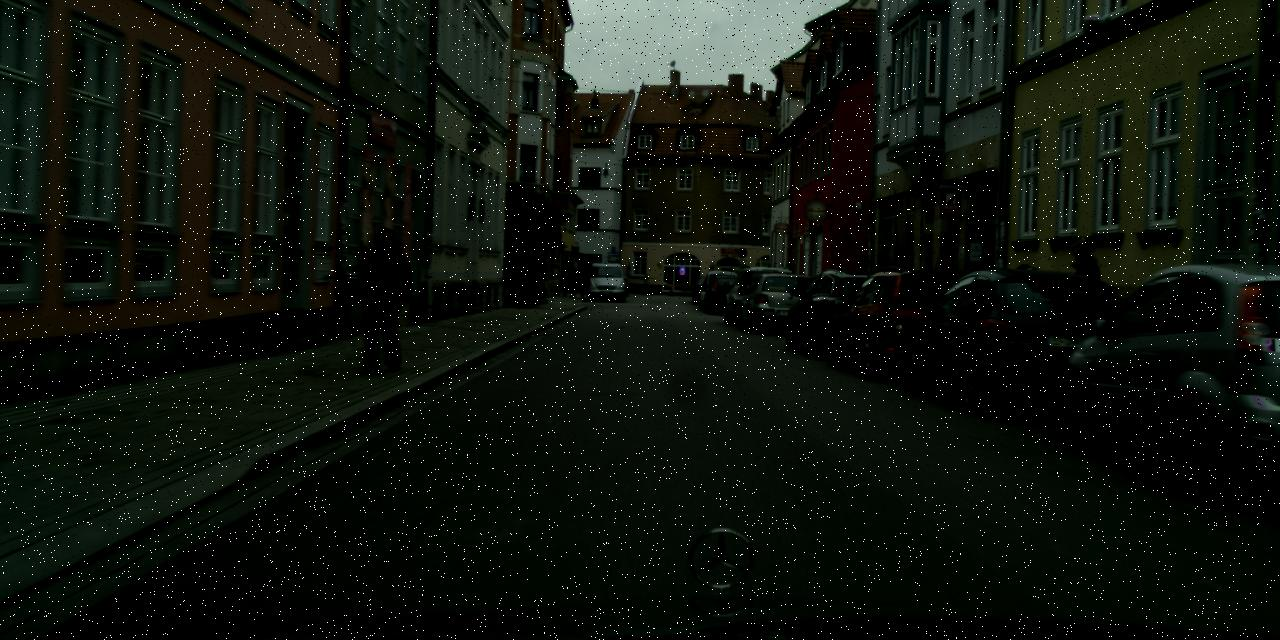ped: (354, 228, 414, 372), (1057, 238, 1115, 378), (576, 265, 588, 296), (567, 266, 579, 296), (560, 266, 571, 295)
